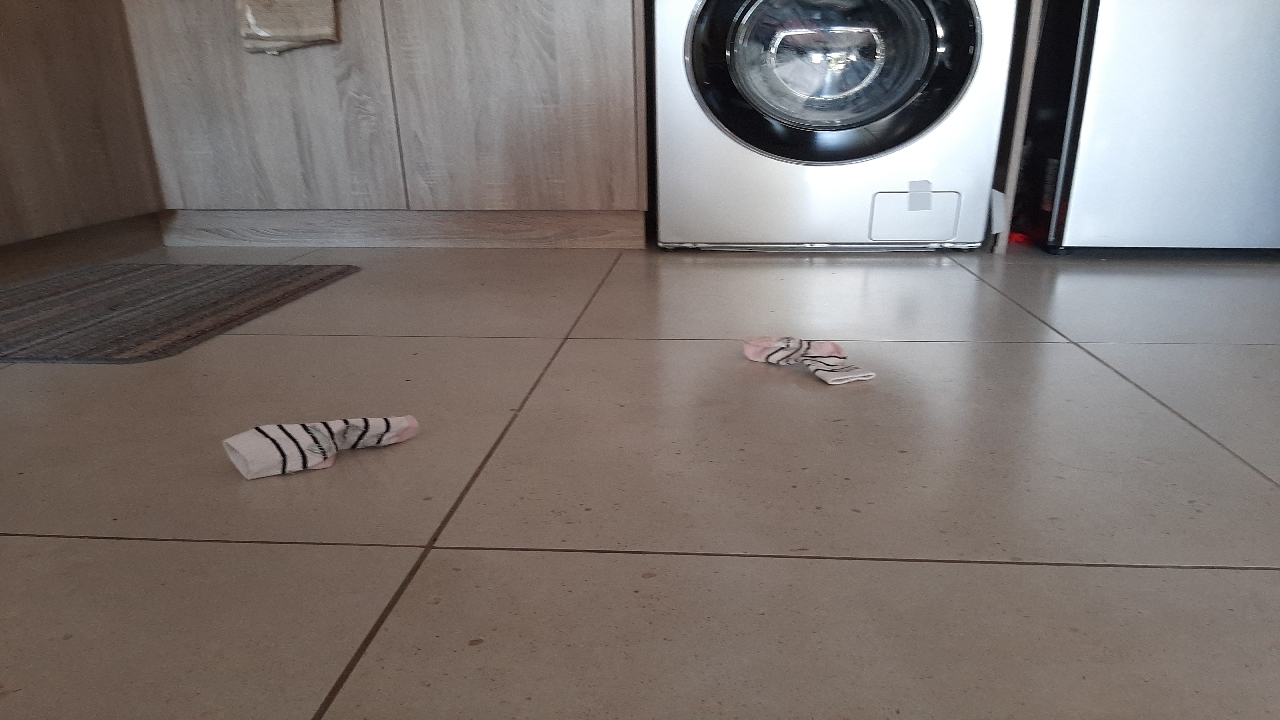socks: (194, 387, 457, 502), (666, 304, 912, 417)
